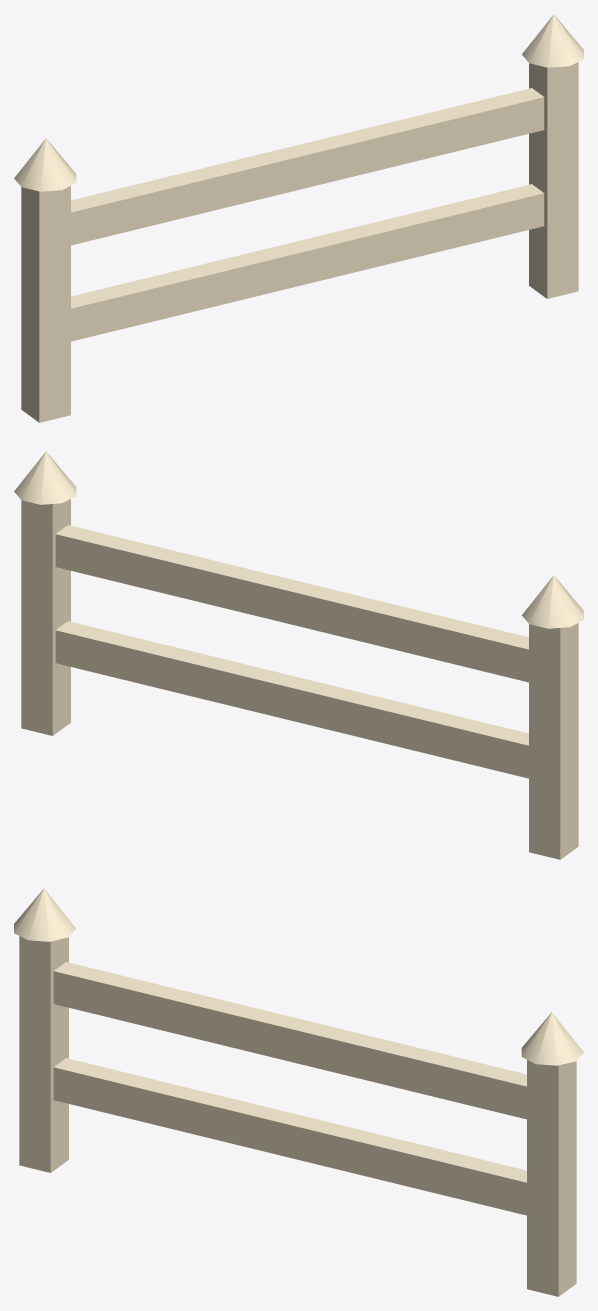
The model's file is fence.glb.
3 renders of one model, top to bottom at view 1: azimuth 30°, elevation 25°; view 2: azimuth 150°, elevation 25°; view 3: azimuth 330°, elevation 25°, orthographic.
Parts seen in each view (by area): view 1: surface_#fff2d6; view 2: surface_#fff2d6; view 3: surface_#fff2d6.
Boxes of the visible parts, x1=… form: surface_#fff2d6: x1=14, y1=14, x2=583, y2=422; surface_#fff2d6: x1=14, y1=451, x2=583, y2=859; surface_#fff2d6: x1=14, y1=888, x2=583, y2=1296.
Bounding box in the file's own units: 2.33 × 1.09 × 0.2231.
